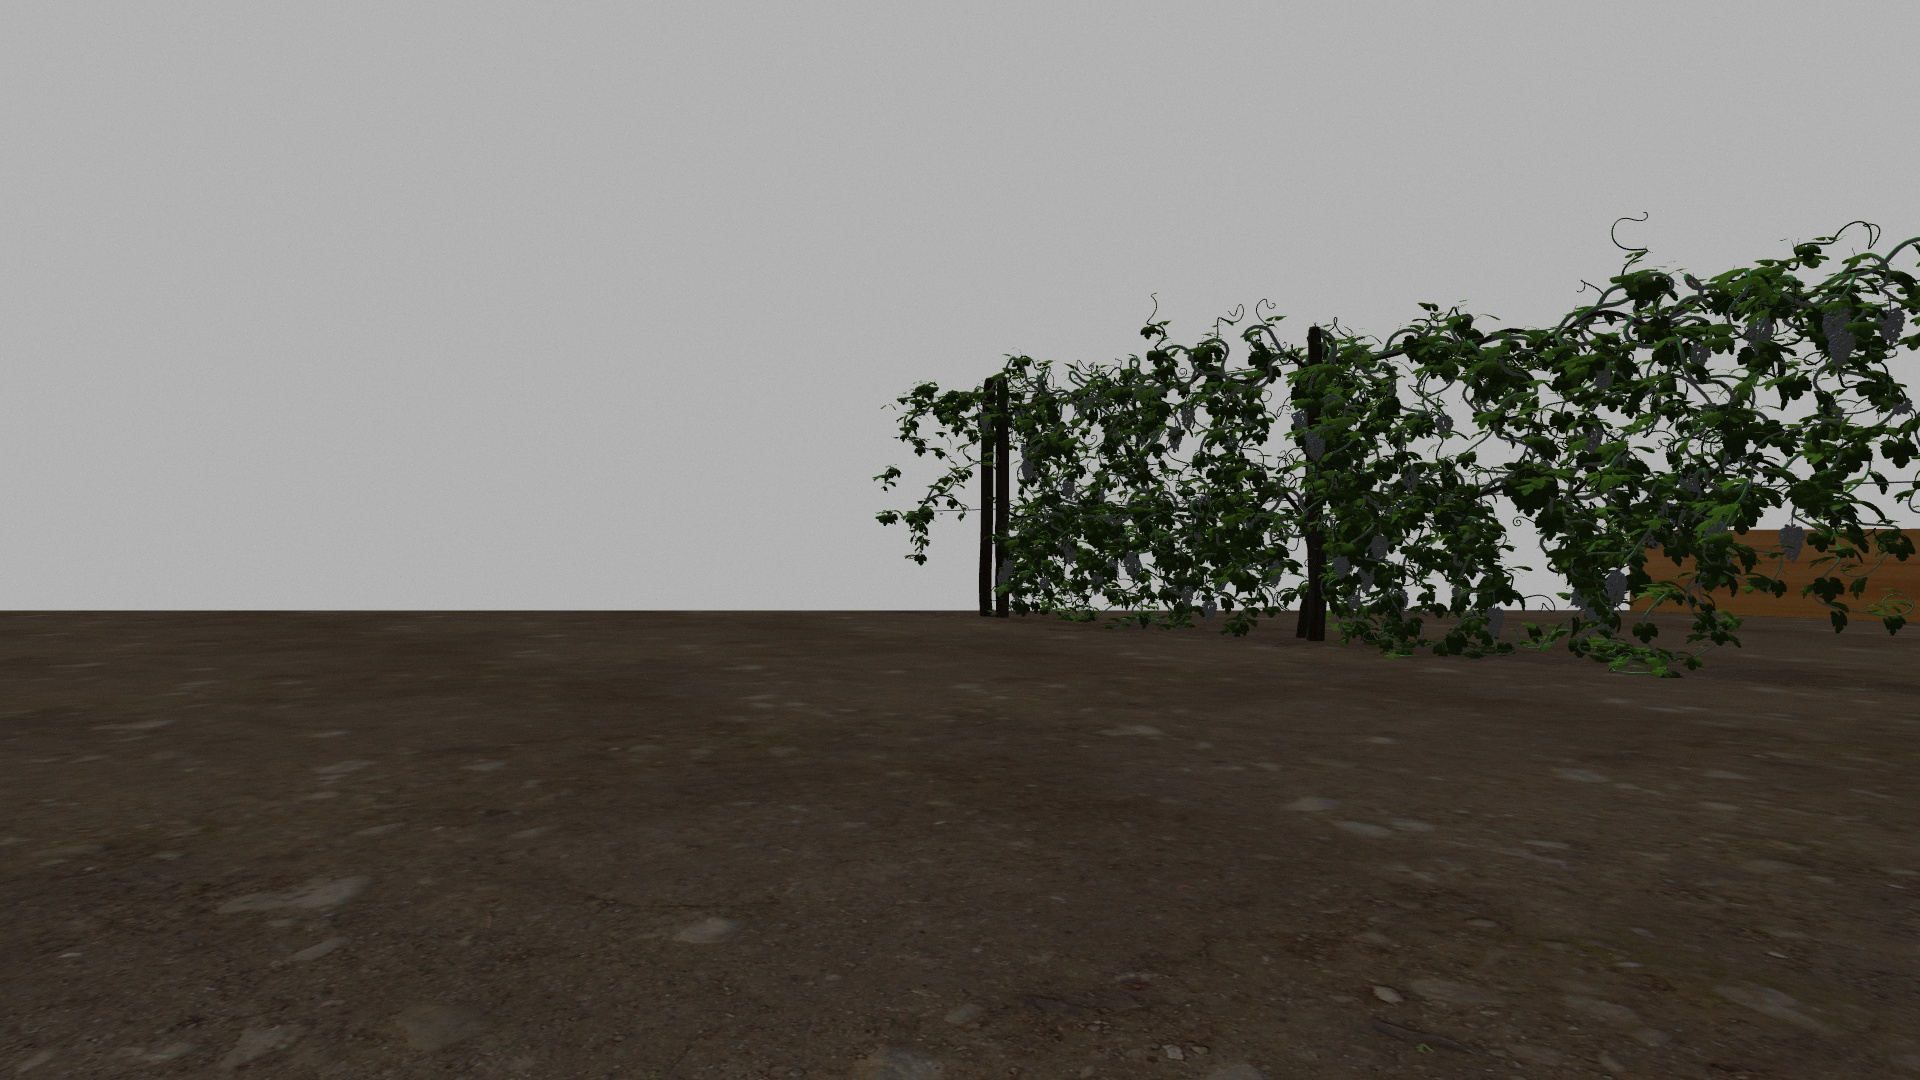grape: (1822, 306, 1858, 371), (1779, 524, 1807, 563), (1878, 307, 1905, 345), (1605, 570, 1629, 607), (1485, 607, 1506, 640), (1304, 431, 1327, 462), (1331, 553, 1352, 580), (1370, 534, 1389, 560), (1122, 553, 1142, 575), (1436, 415, 1455, 439), (1358, 564, 1375, 589), (1168, 426, 1184, 452), (1291, 410, 1309, 433), (1203, 599, 1218, 622), (1021, 458, 1036, 480), (1182, 404, 1196, 427), (1062, 543, 1077, 564), (1180, 584, 1193, 609), (1062, 476, 1076, 498), (978, 411, 992, 434), (1004, 560, 1014, 578), (997, 572, 1009, 587), (1039, 578, 1050, 589)
